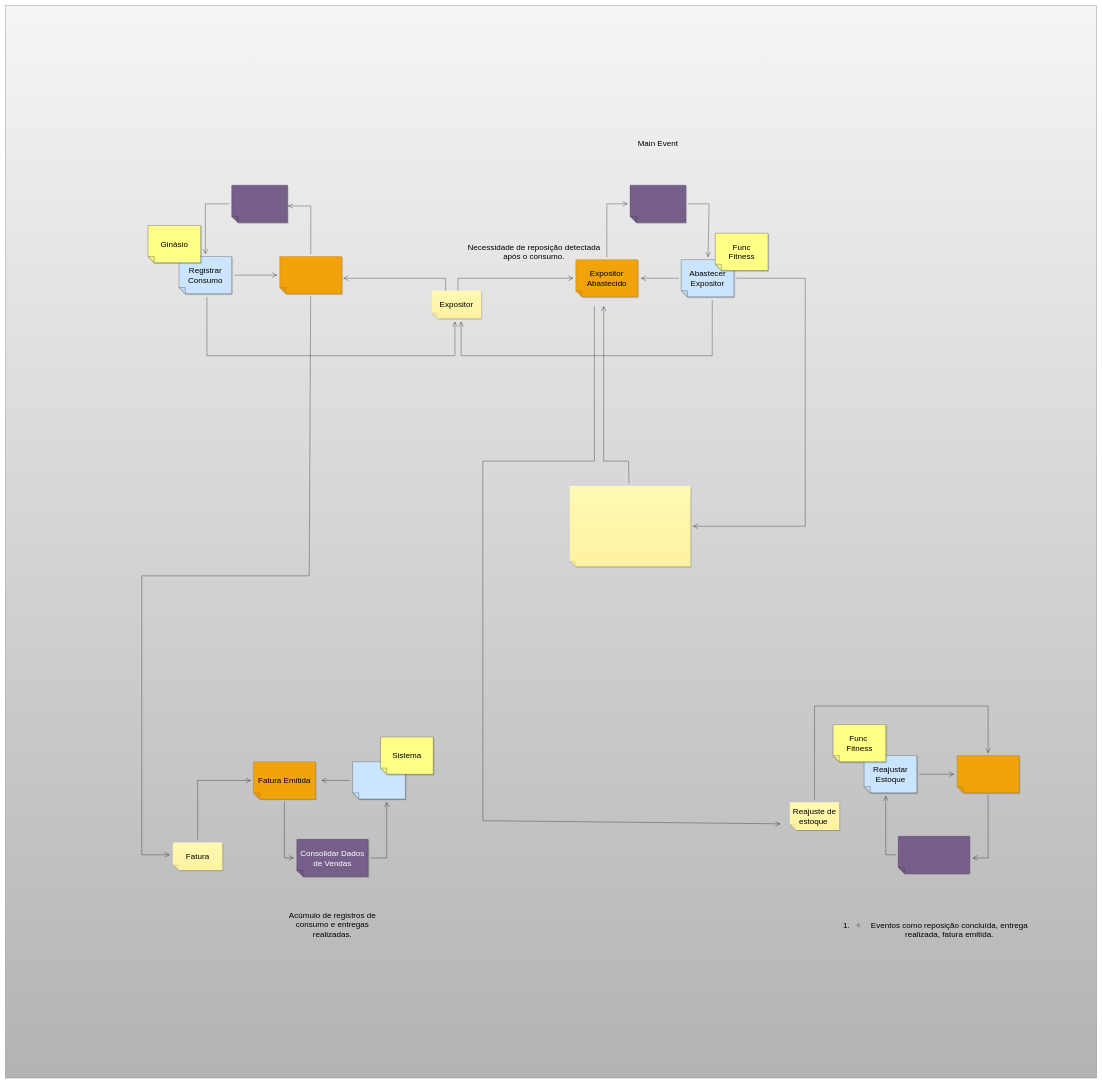
This 1102x1083 diagram has some shape labels left out. The centre of each missing label's shape, as x and y in pixels:
"Atualizar Stock" belongs at [259,204].
"Consumo Registrado" belongs at [311,275].
"Emitir Fatura" belongs at [379,780].
"Estoque Reajustado" belongs at [988,774].
"Guia de Remessa" belongs at [630,527].
"Quantidade menor" belongs at [934,855].
"val > 30" belongs at [658,204].
